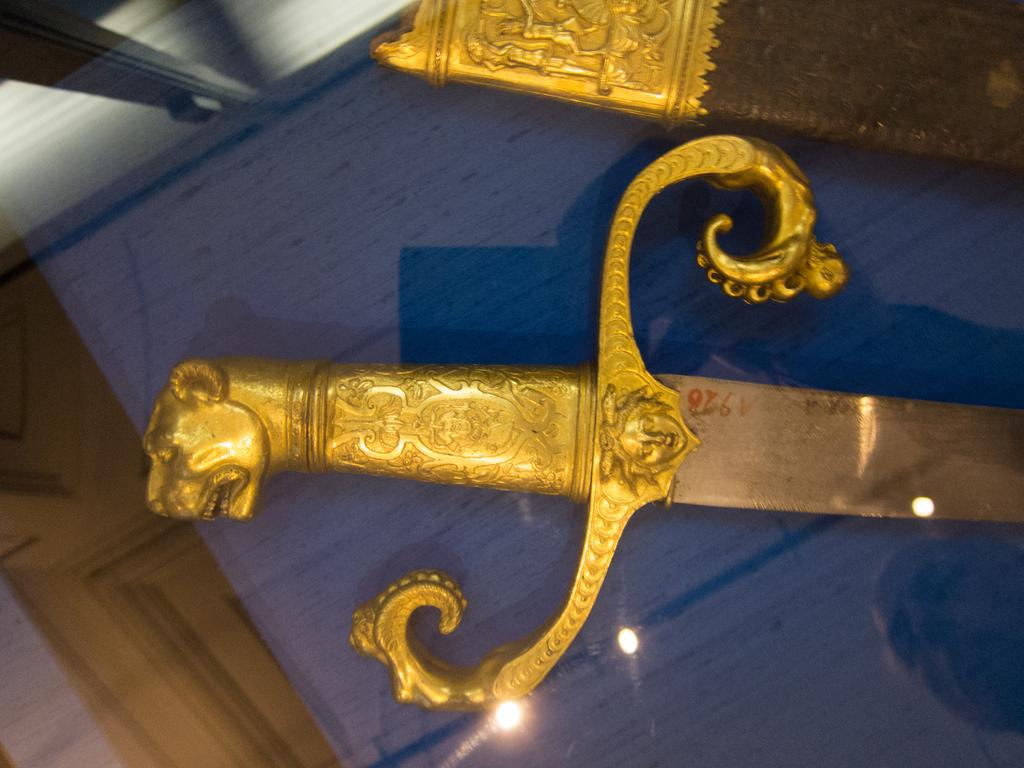Sword: (140, 135, 1023, 710)
